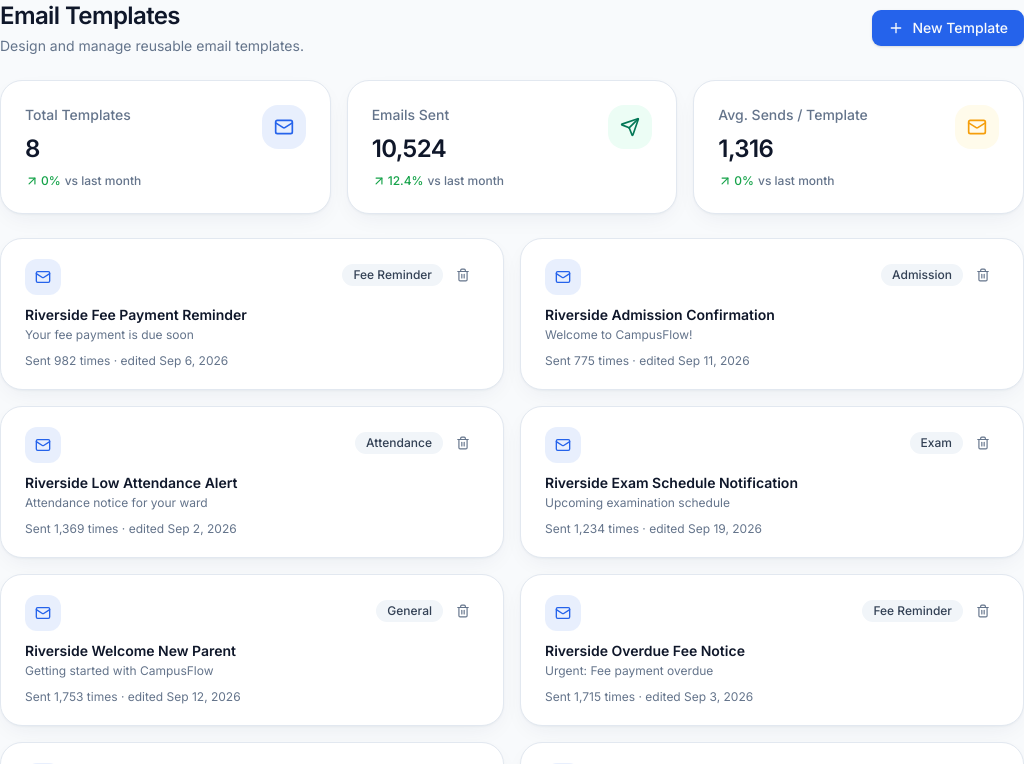
Test case: EmailTemplatesPage › creates a new template scoped to the current school and adds it to the list
Click the button "New Template": point(948, 28) [872,10,1023,46]
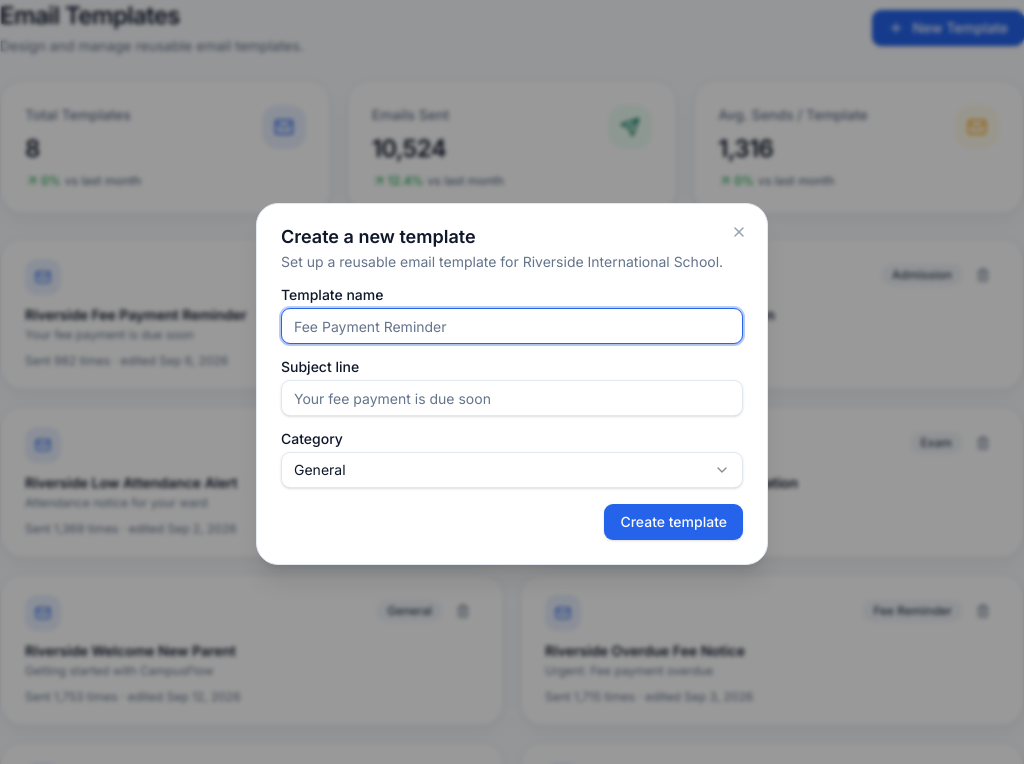
In the field labelled "Template name": point(512, 326) [281,308,743,344], type "QA Welcome Email"
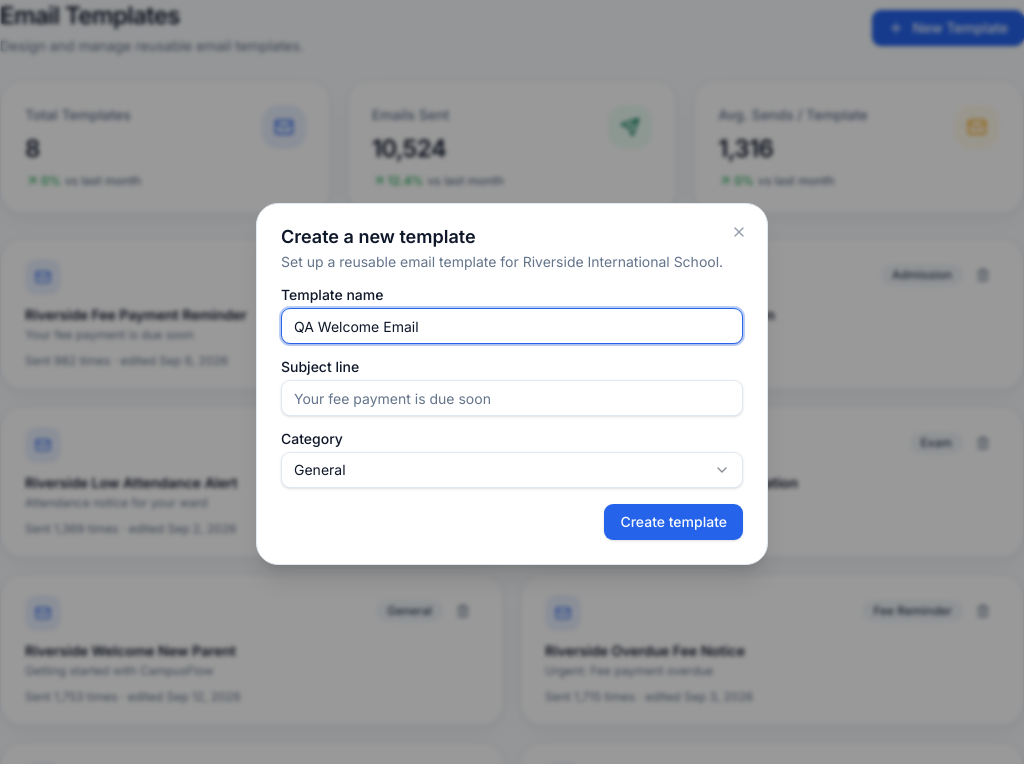
In the field labelled "Subject line": point(512, 398) [281,380,743,416], type "Welcome to QA"
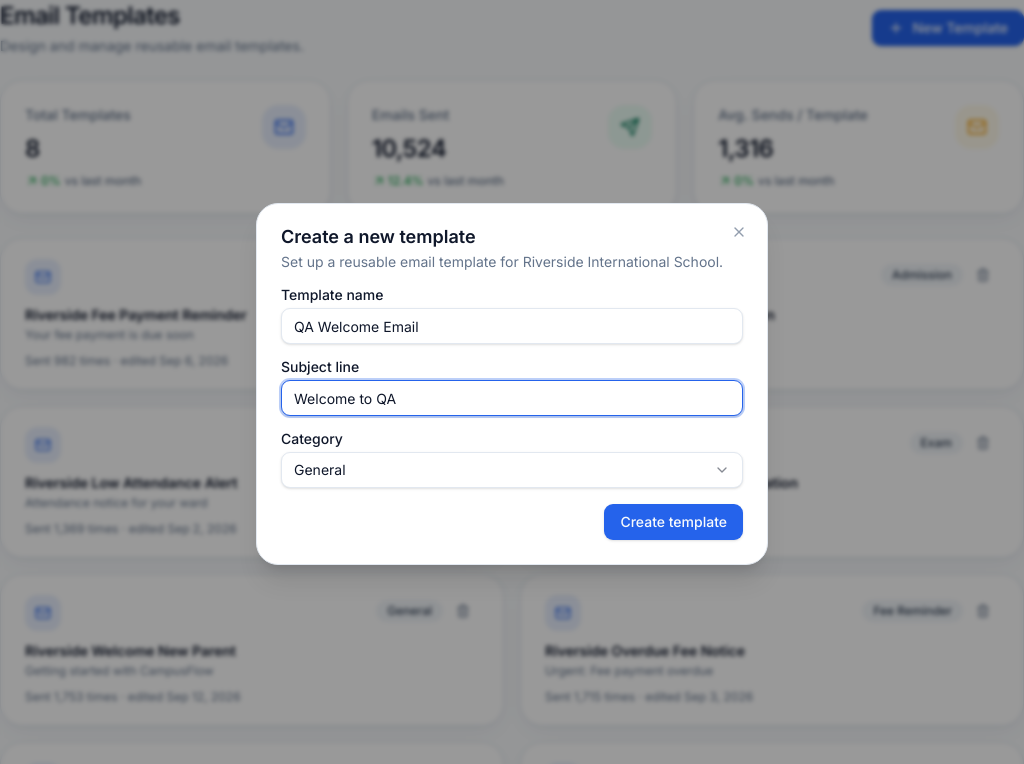
Click the dropdown named "category": point(320, 470) [281,452,743,488]
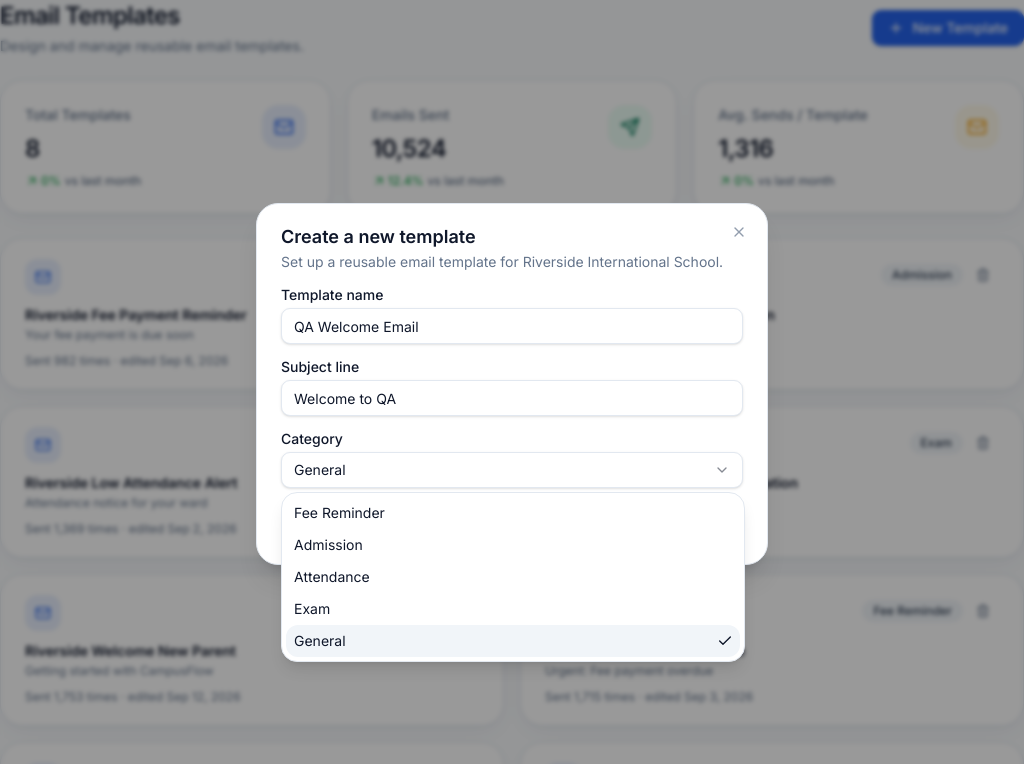
Click the option "Admission": point(328, 544) [294,536,363,553]
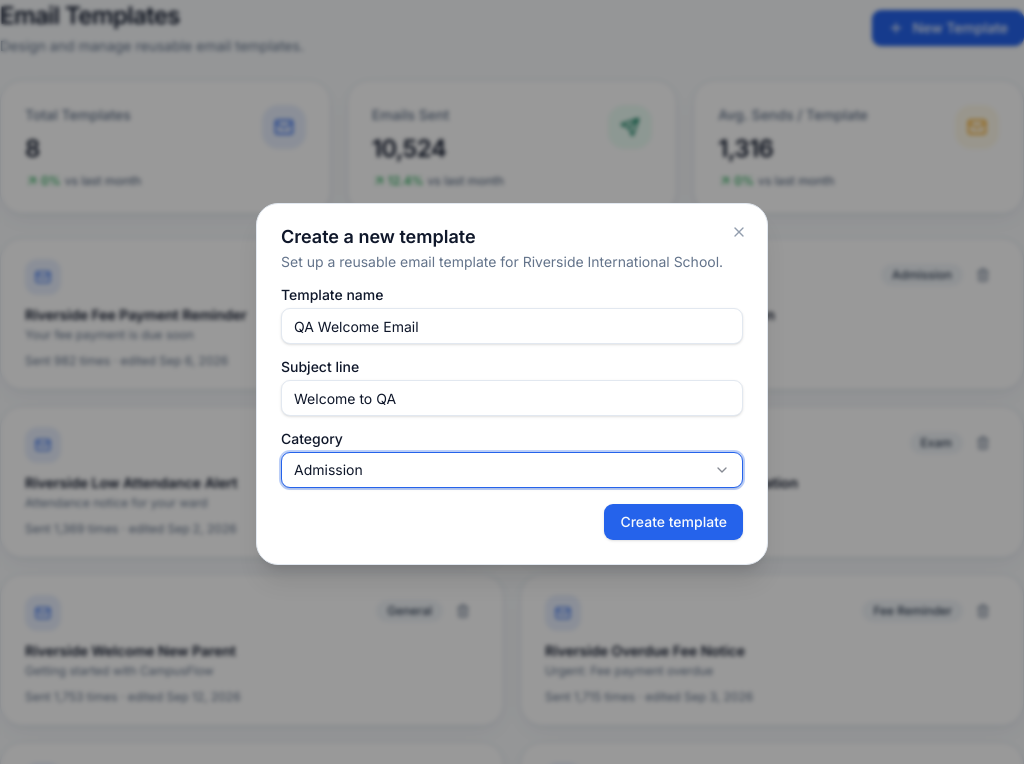
Click the button "Create template": point(674, 522) [604,504,743,540]
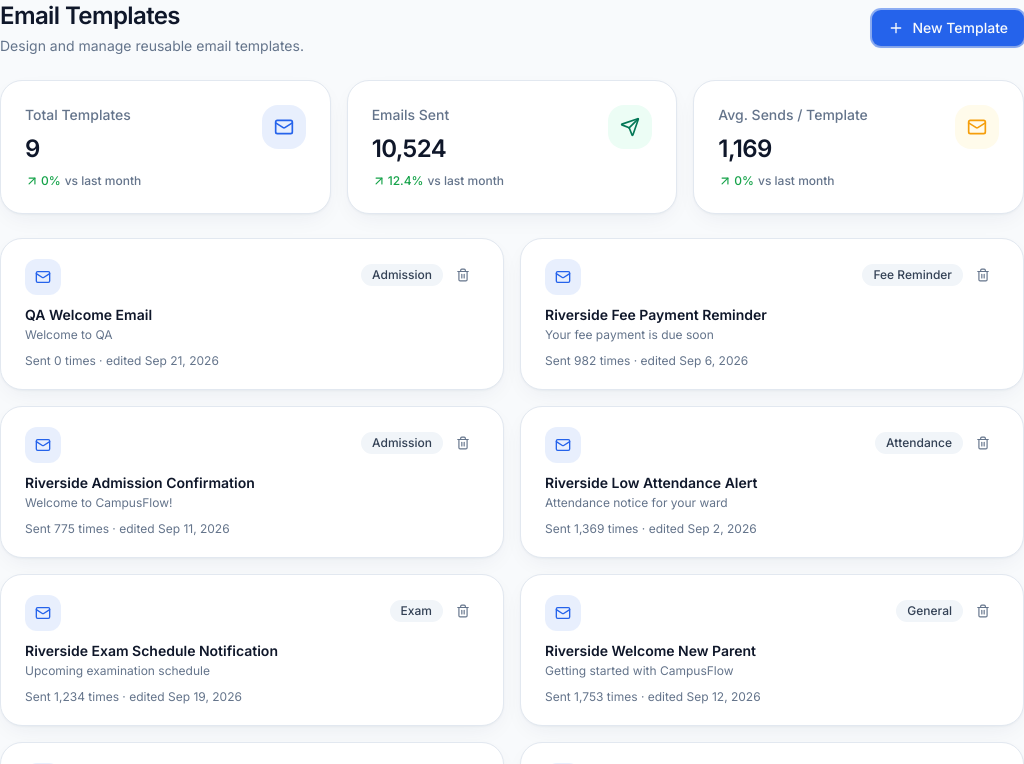
expect the text "QA Welcome Email" is shown: met, box [25,306,152,323]
